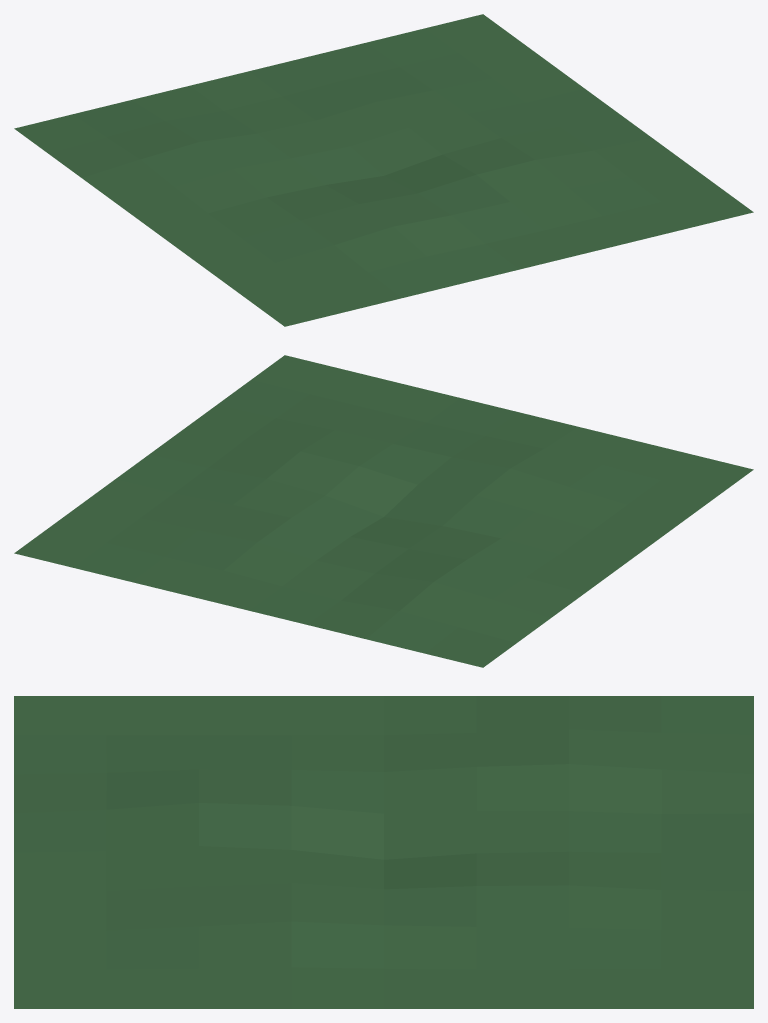
Rendered from Terrain_9_Light_Green.fbx.
3 renders of one model, top to bottom at view 1: azimuth 30°, elevation 25°; view 2: azimuth 150°, elevation 25°; view 3: azimuth 270°, elevation 25°, orthographic. The views are drawn at different scales.
Parts seen in each view (by area): view 1: Terrain_9_Light_Green; view 2: Terrain_9_Light_Green; view 3: Terrain_9_Light_Green.
Part boxes in pixels (<box>): Terrain_9_Light_Green: <box>14,14,753,326</box>; Terrain_9_Light_Green: <box>14,355,753,667</box>; Terrain_9_Light_Green: <box>14,696,753,1008</box>.
Size of the model in its own units: 4000 by 106 by 4000.
